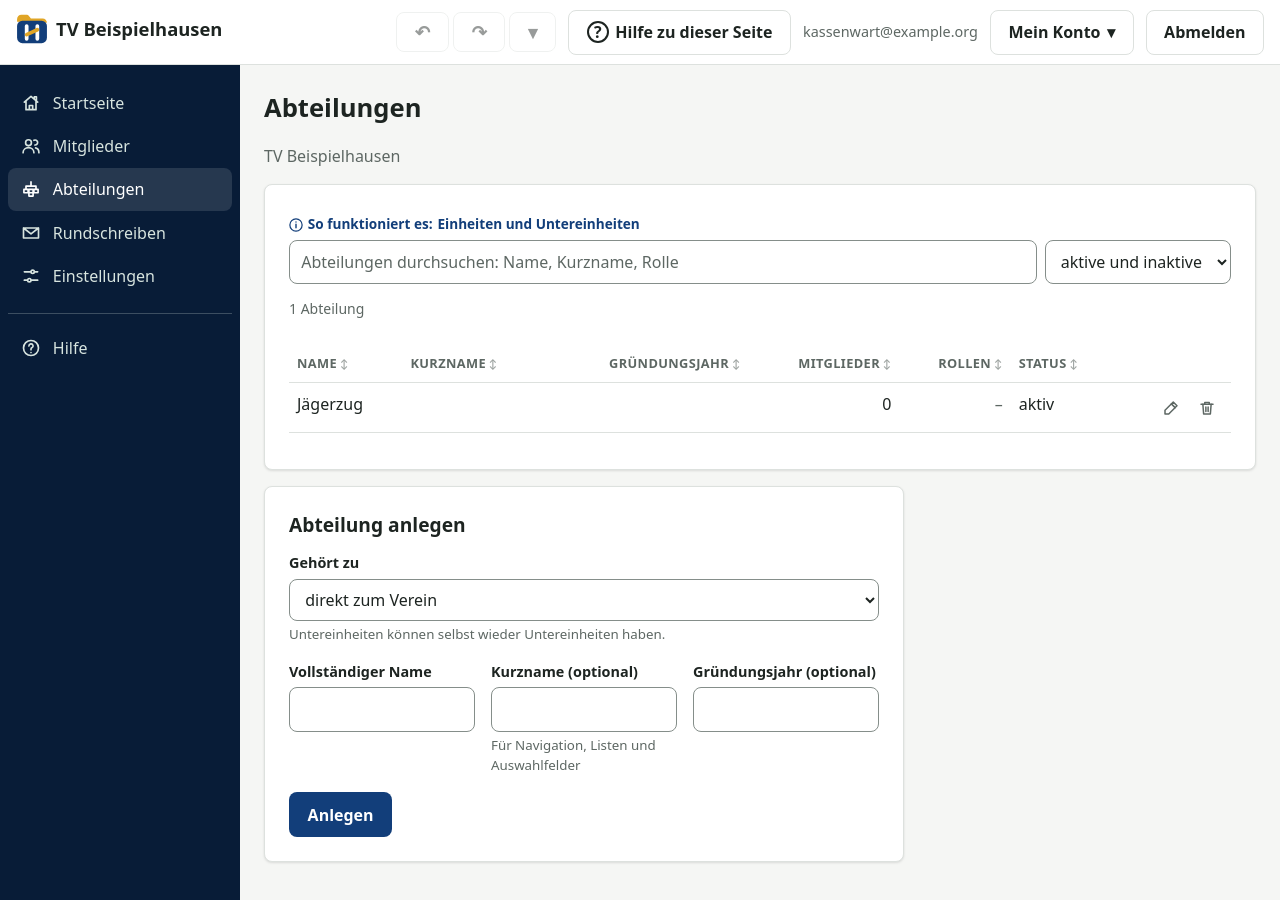
Bild der Homepage › ohne Bild: Hinweis und eigenes Bild hochladen
What coordinates should you click on to do the following:
click the button named "Jägerzug bearbeiten"
I would click on:
 (1171, 408)
Its box is x1=1155 y1=392 x2=1187 y2=424.
(page scrolled)
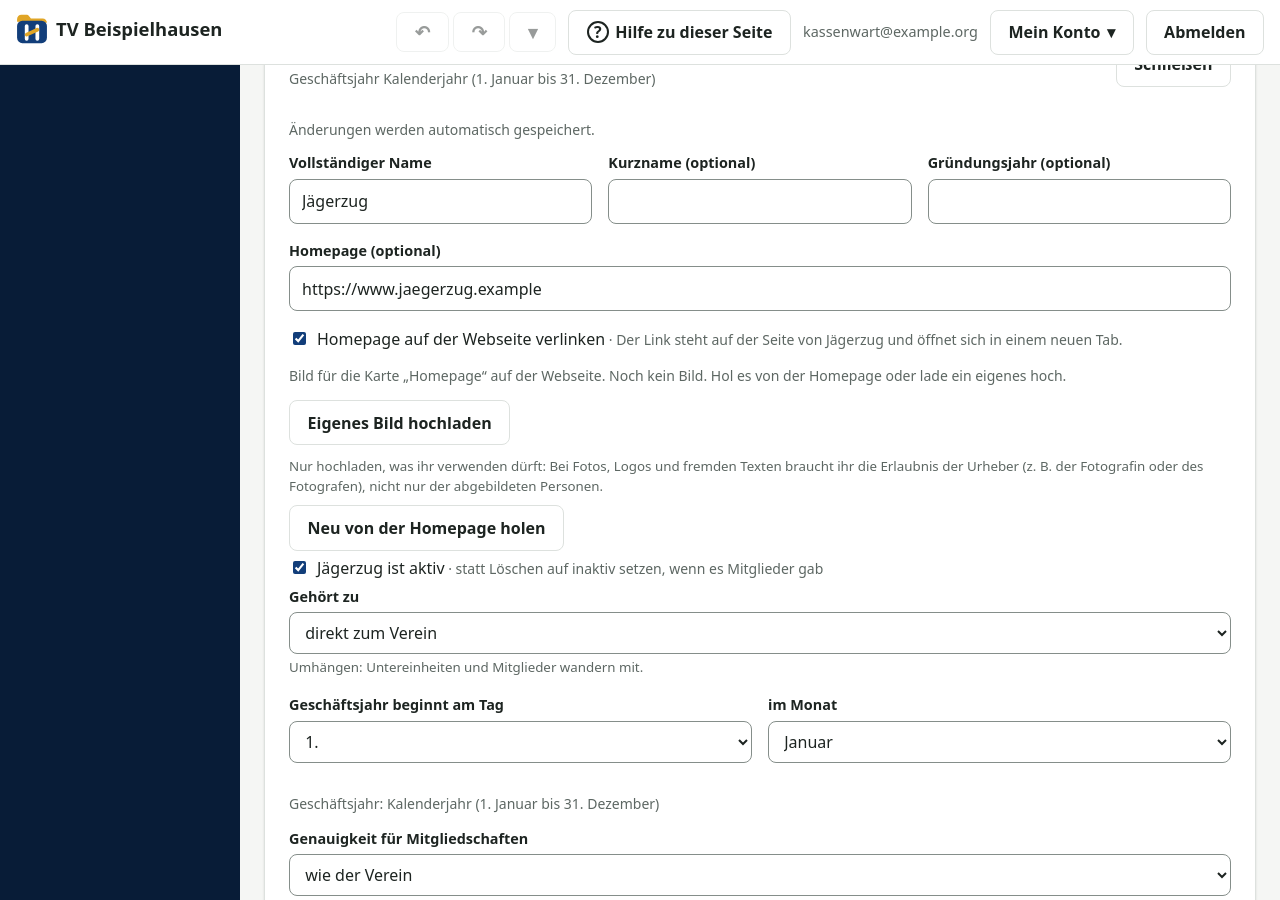
Result: the text "Noch kein Bild" is shown at x1=609 y1=366 x2=1066 y2=385
Result: the file field labelled "Eigenes Bild hochladen" is shown at x1=289 y1=400 x2=510 y2=446
